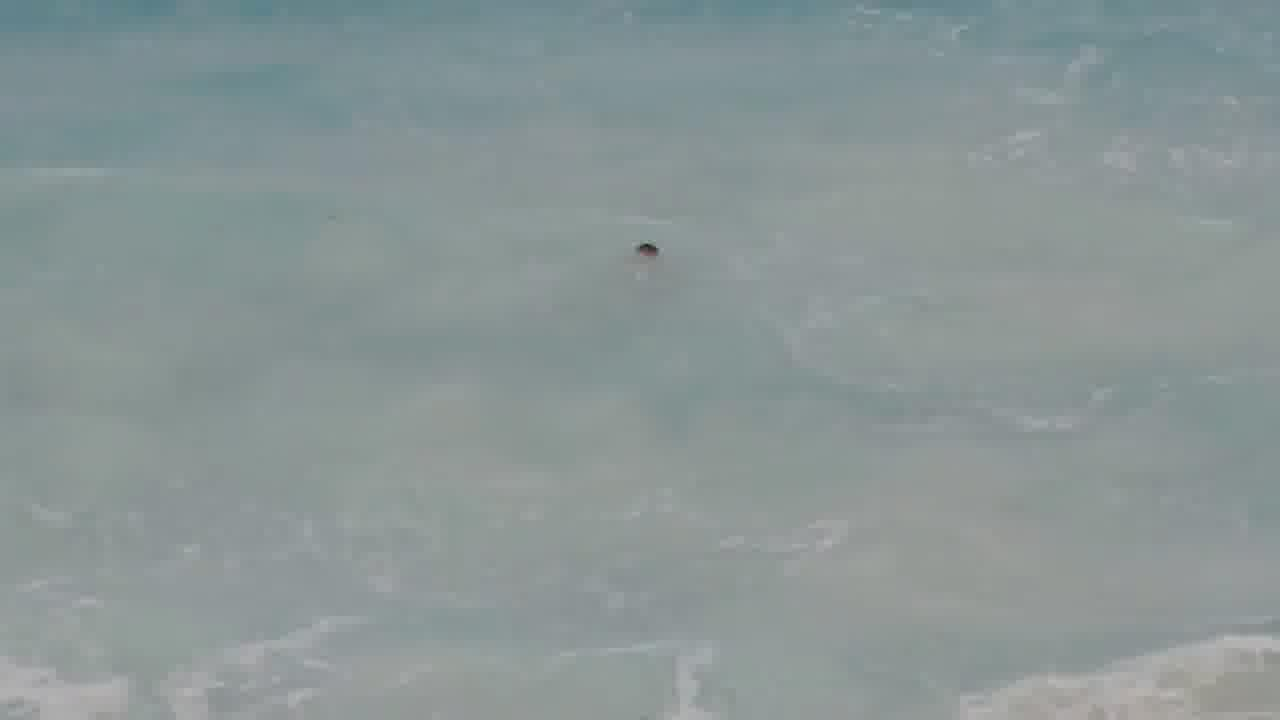human: (624, 230, 677, 279)
